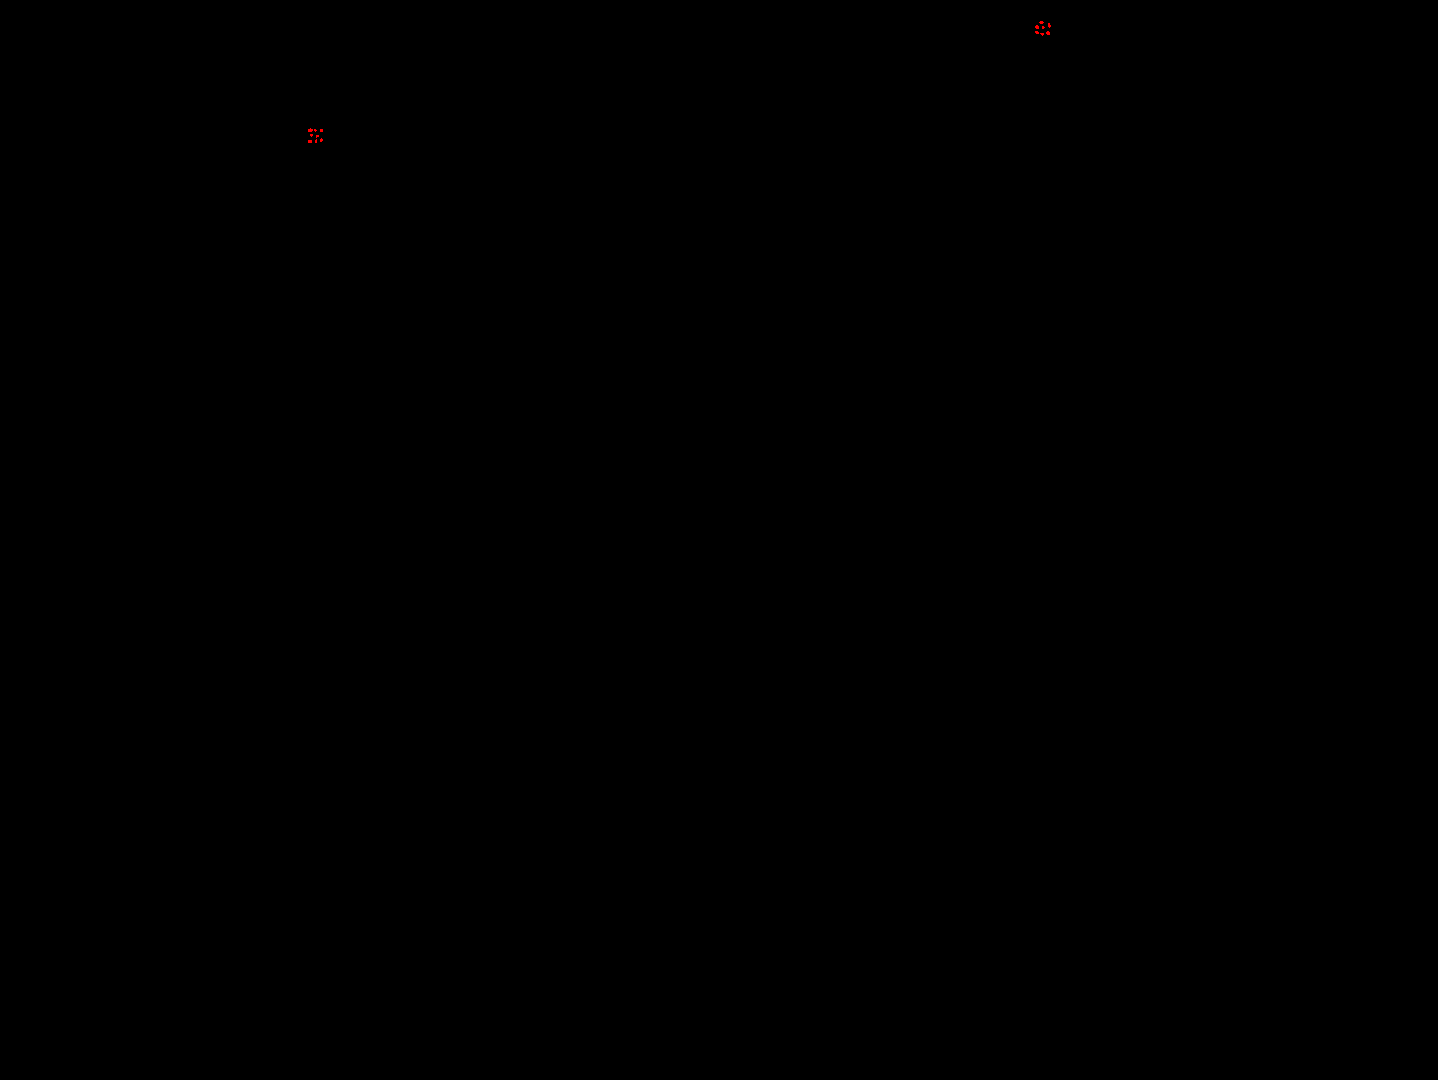Target: (1046, 31, 1050, 35), (1048, 23, 1051, 28), (1035, 25, 1039, 29), (1040, 33, 1044, 36), (308, 128, 313, 132), (1039, 22, 1044, 24), (1035, 31, 1039, 34), (310, 134, 313, 137), (320, 138, 323, 142), (308, 140, 312, 143), (1042, 26, 1044, 29), (314, 129, 318, 132), (320, 129, 323, 132), (316, 135, 319, 138), (315, 140, 318, 143)
